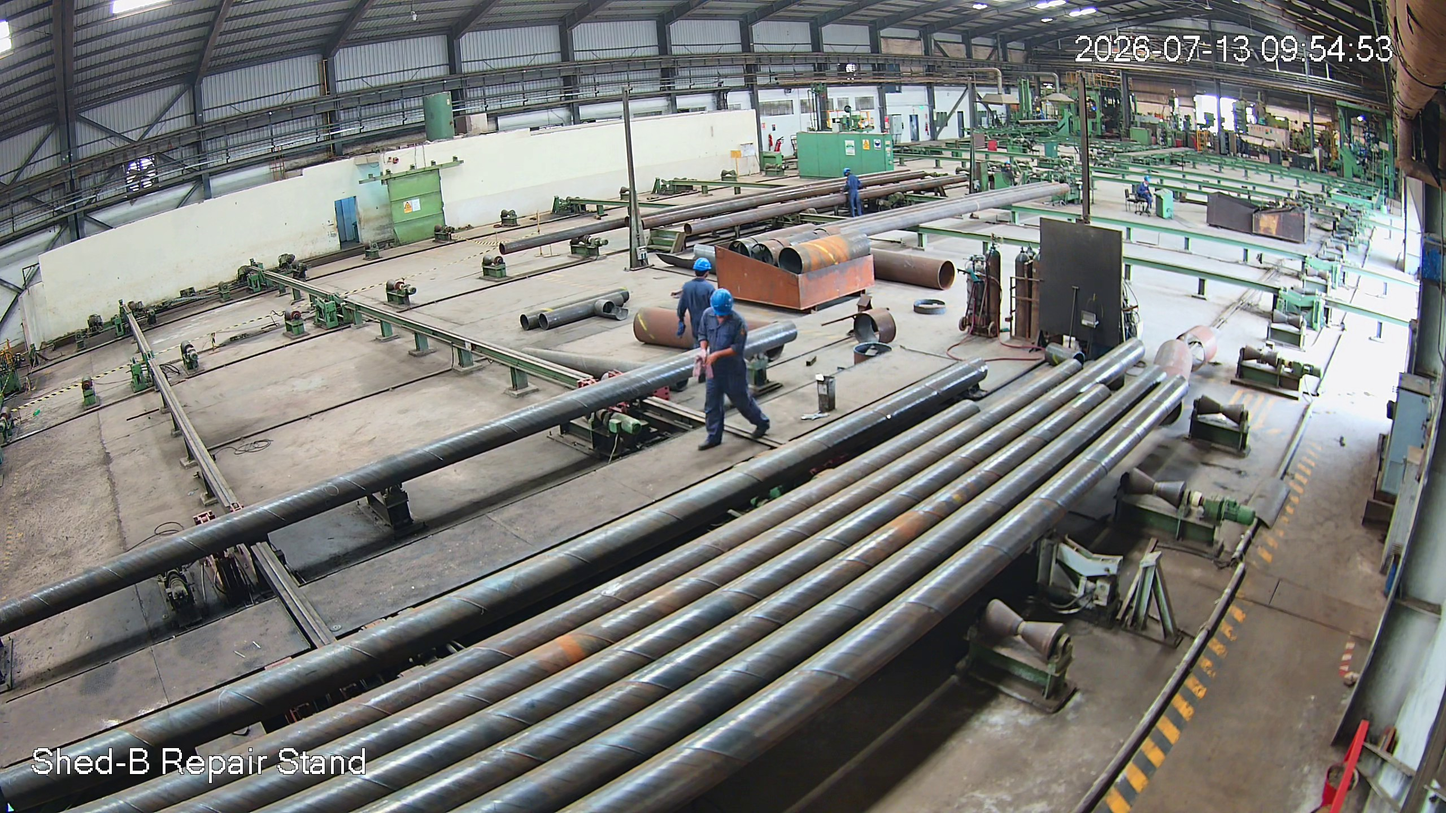Helmet: (706, 285, 735, 328), (690, 253, 718, 288)
Person: (695, 289, 770, 451), (673, 256, 715, 368)
